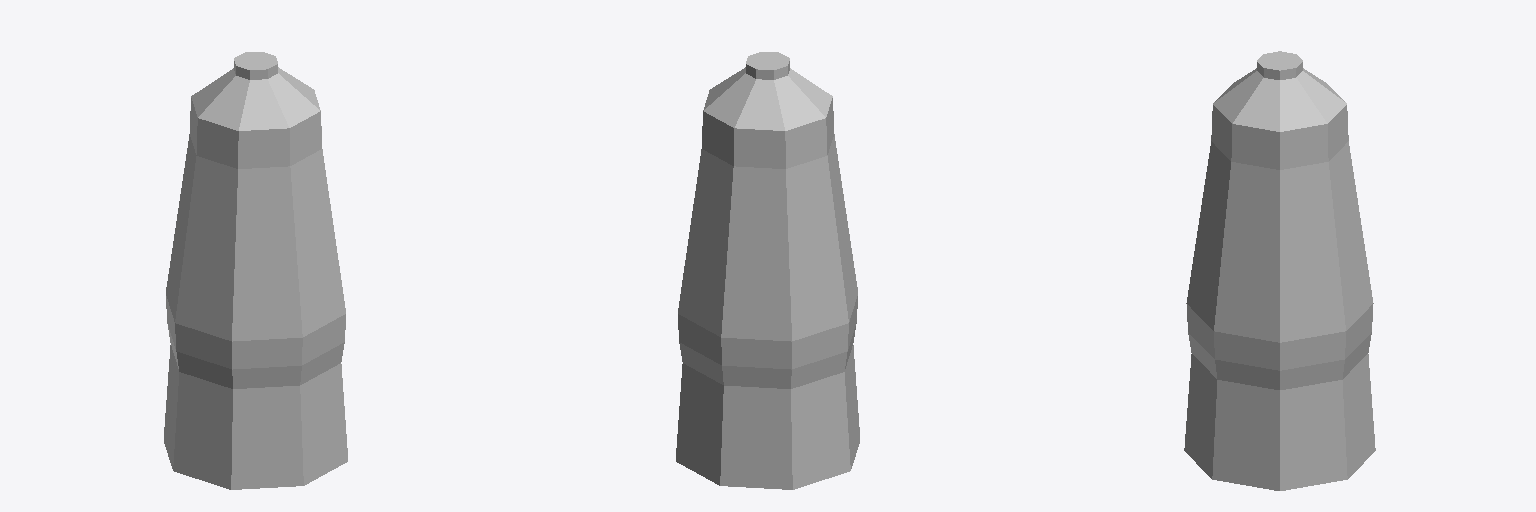
Rendered from blast_furnace_multiblock.obj.
The picture shows the model from 3 angles: view 1: azimuth 30°, elevation 25°; view 2: azimuth 150°, elevation 25°; view 3: azimuth 270°, elevation 25°; orthographic projection.
Parts seen in each view (by area): view 1: BlastFurnaceMultiblock_Circle; view 2: BlastFurnaceMultiblock_Circle; view 3: BlastFurnaceMultiblock_Circle.
Boxes of the visible parts, x1=… form: BlastFurnaceMultiblock_Circle: x1=164, y1=52, x2=347, y2=489; BlastFurnaceMultiblock_Circle: x1=676, y1=52, x2=859, y2=489; BlastFurnaceMultiblock_Circle: x1=1184, y1=51, x2=1375, y2=490.
Bounding box in the file's own units: 1.77 × 3.99 × 1.77.